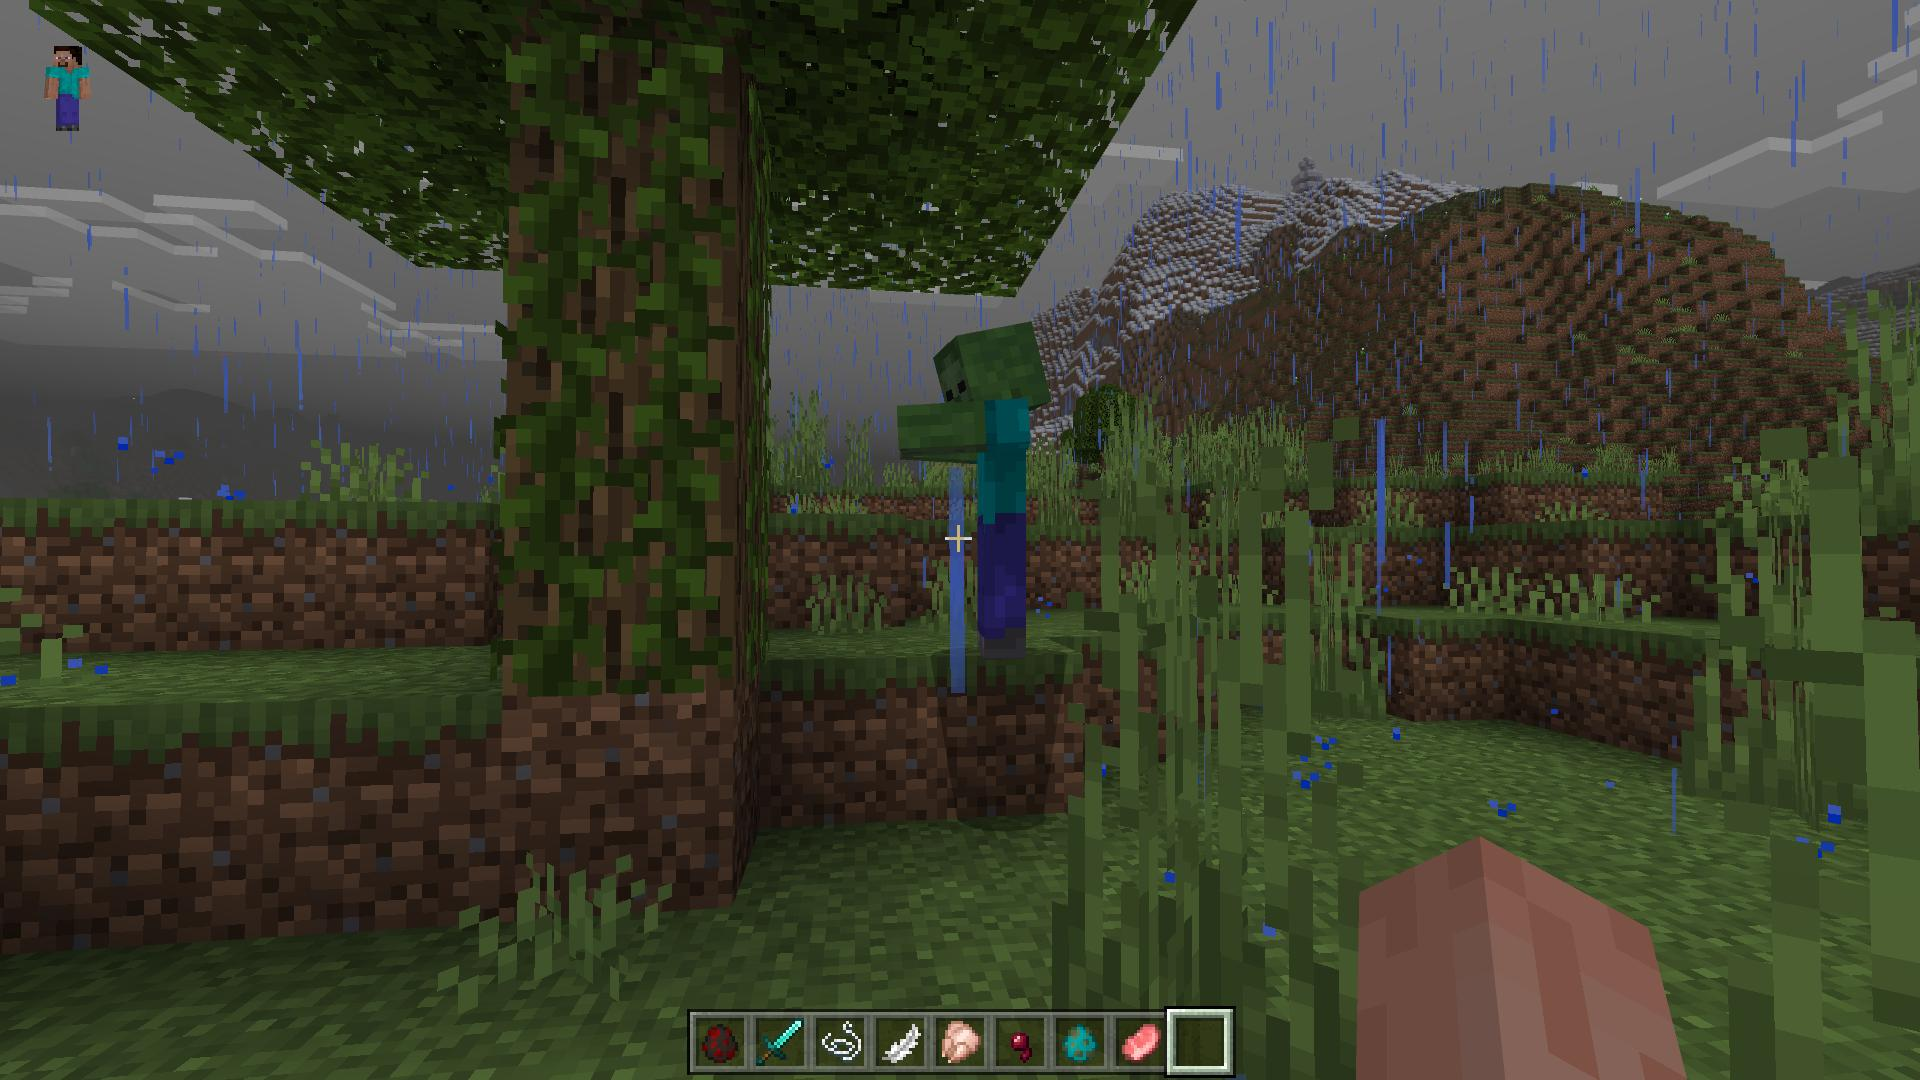zombie: (905, 320, 1059, 649)
